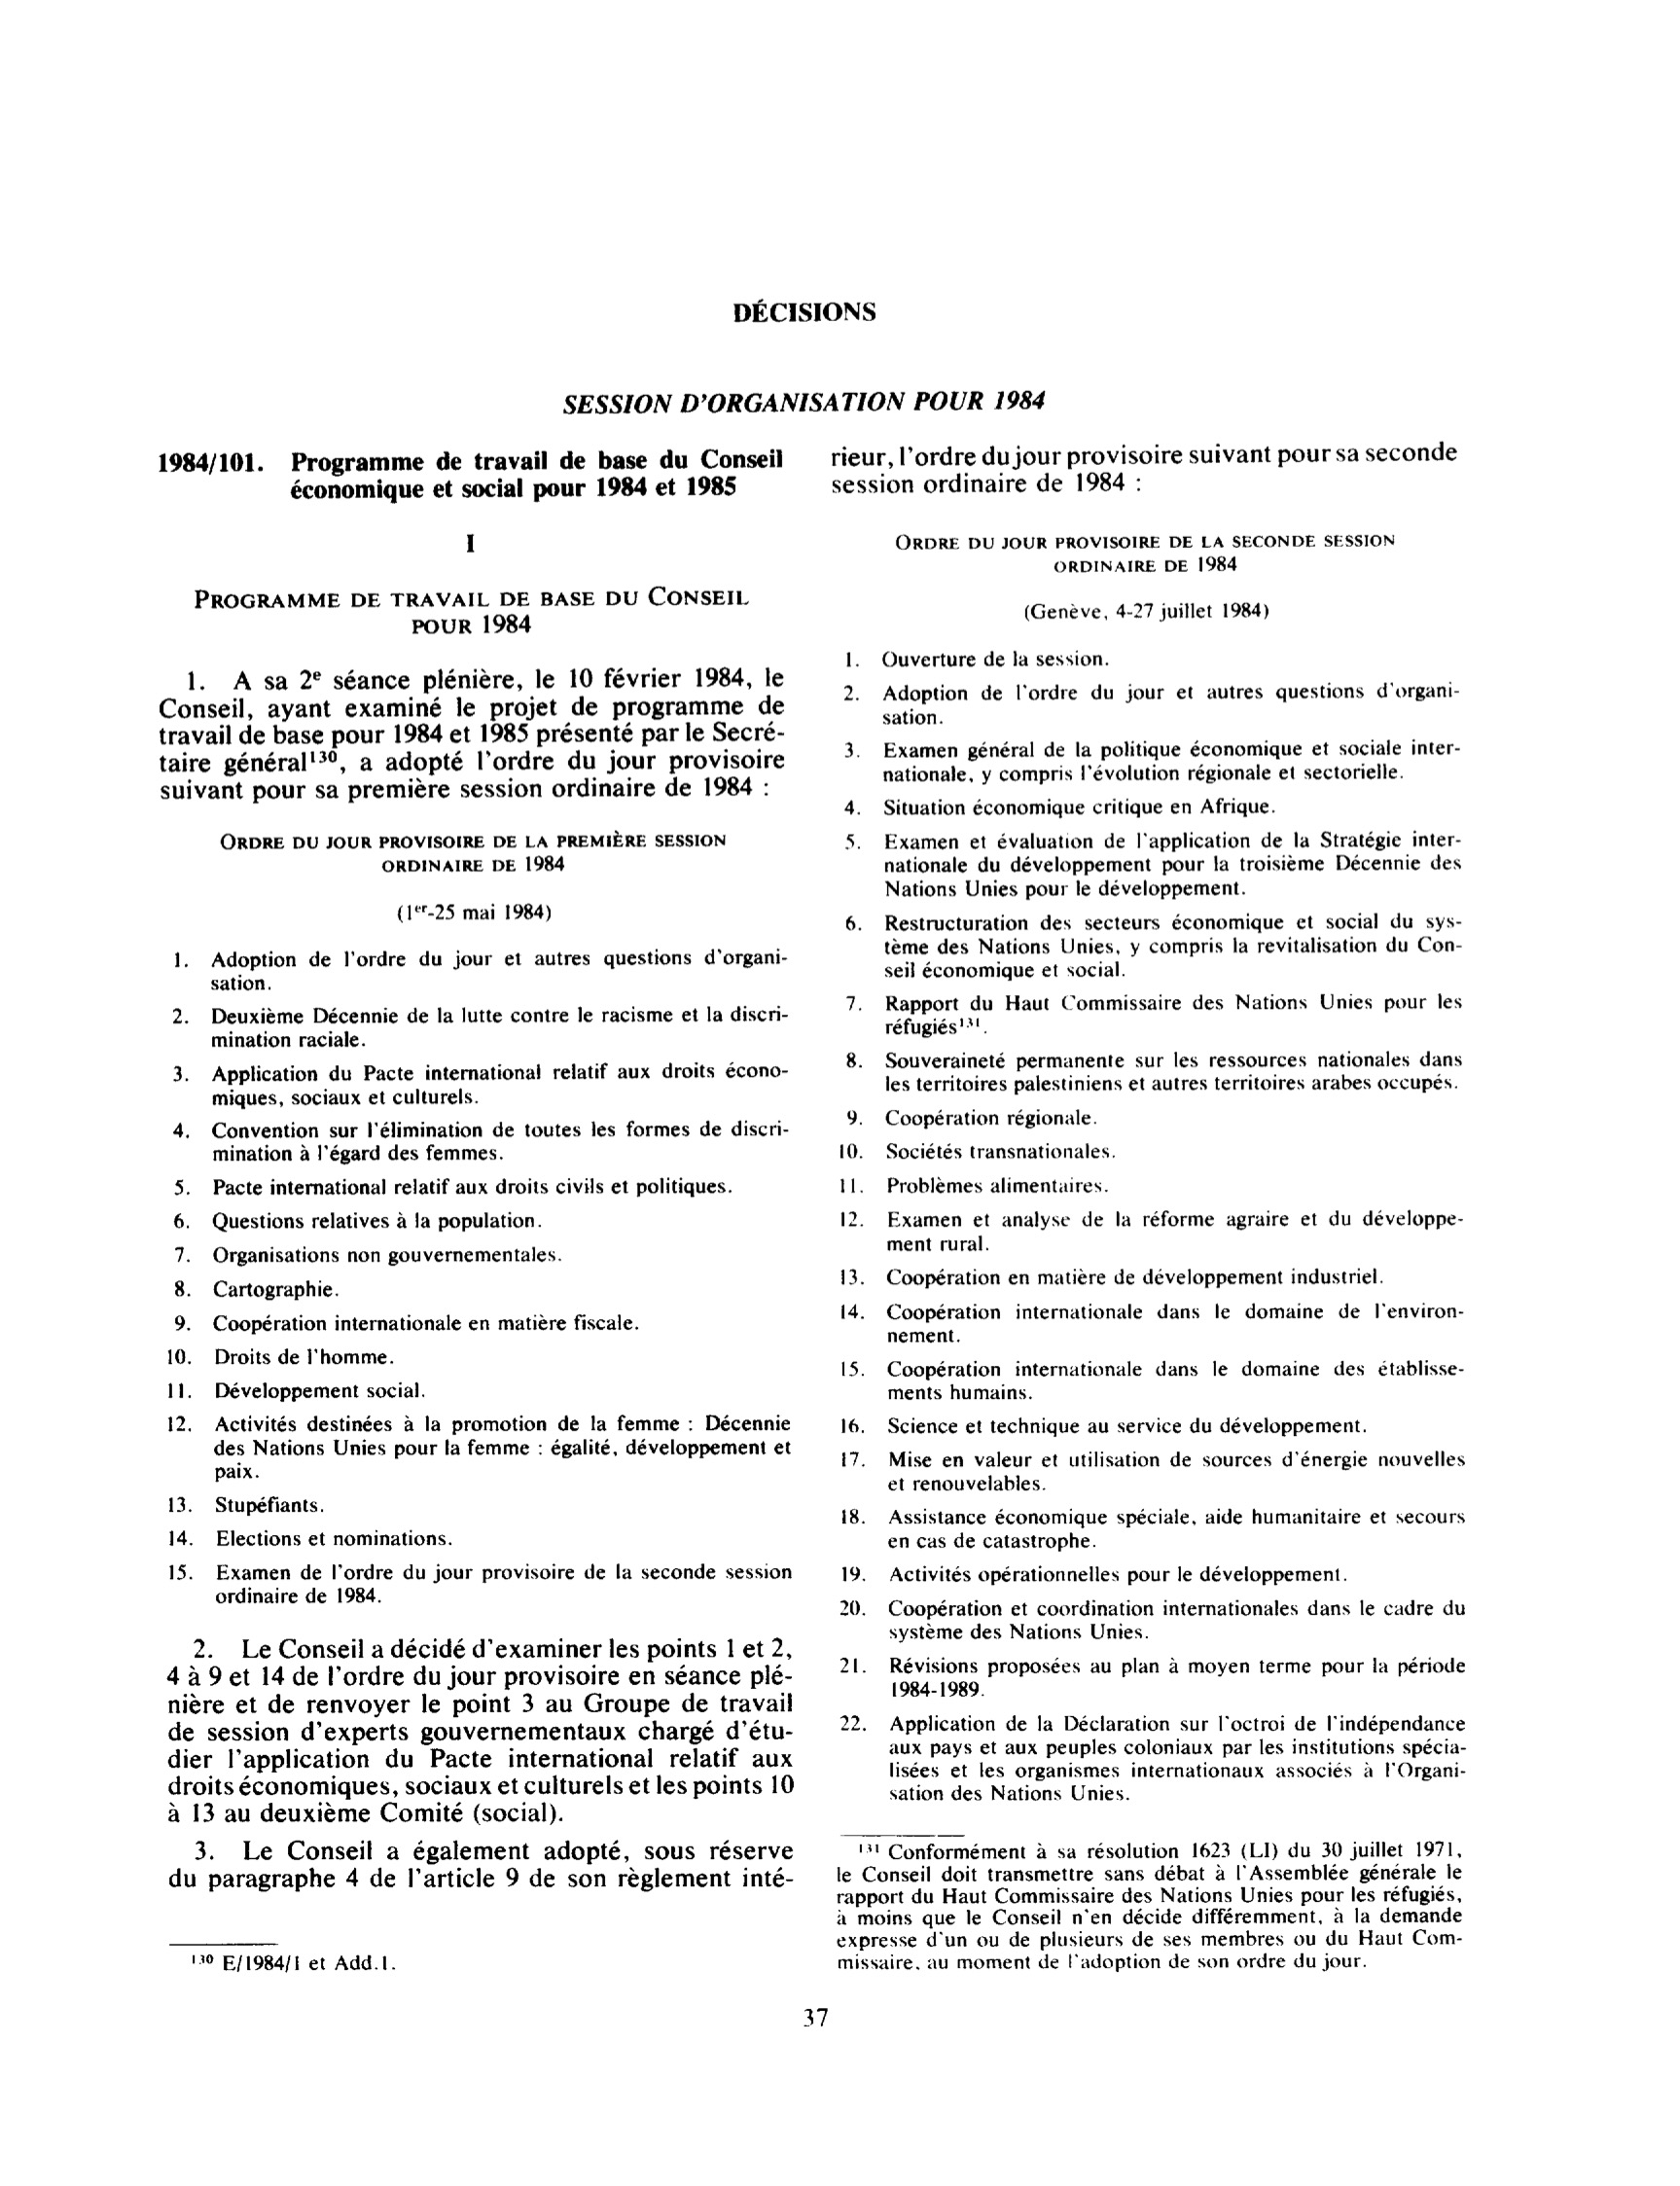MainZone-Head: (150, 440, 792, 515), (820, 436, 1469, 504), (179, 582, 765, 644), (205, 824, 748, 882), (886, 522, 1407, 583), (554, 377, 1055, 429), (1013, 591, 1276, 629), (725, 286, 884, 338), (387, 893, 561, 932), (457, 528, 483, 560)
MainZone-ListItem: (158, 1630, 803, 1829), (150, 660, 793, 810), (831, 1706, 1477, 1811), (832, 826, 1474, 906), (832, 906, 1474, 985), (156, 1409, 796, 1486), (160, 1833, 802, 1901), (834, 1044, 1470, 1101), (830, 1500, 1474, 1557), (833, 986, 1471, 1043), (161, 1057, 797, 1114), (159, 1558, 795, 1614), (829, 1648, 1475, 1703), (834, 735, 1467, 791), (829, 1353, 1473, 1409), (161, 942, 793, 998), (161, 999, 793, 1056), (828, 1204, 1470, 1260), (160, 1114, 800, 1169), (833, 679, 1467, 734), (828, 1299, 1472, 1352), (831, 1445, 1471, 1498), (832, 1595, 1472, 1647), (827, 1260, 1417, 1298), (162, 1171, 760, 1206), (829, 1410, 1384, 1445), (831, 1558, 1363, 1593), (161, 1305, 650, 1341), (832, 790, 1301, 826), (161, 1273, 641, 1305), (161, 1239, 577, 1272), (161, 1205, 558, 1239), (828, 1135, 1128, 1170), (833, 640, 1123, 676), (158, 1523, 461, 1557), (828, 1170, 1122, 1203), (830, 1102, 1112, 1135), (158, 1376, 437, 1409), (158, 1342, 412, 1375), (158, 1487, 338, 1523)
MarginTextZone-Notes: (828, 1834, 1476, 1984), (180, 1940, 410, 1986)
NumberingZone: (798, 2001, 836, 2038)
